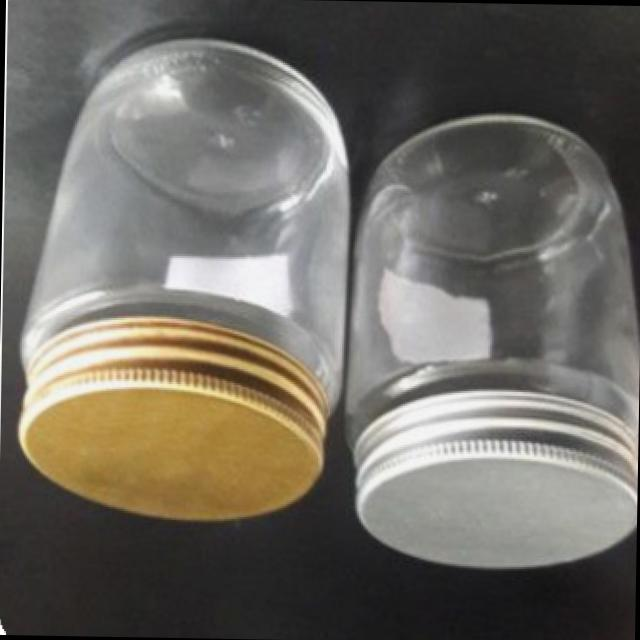ToplesKaca: (15, 39, 640, 564)
